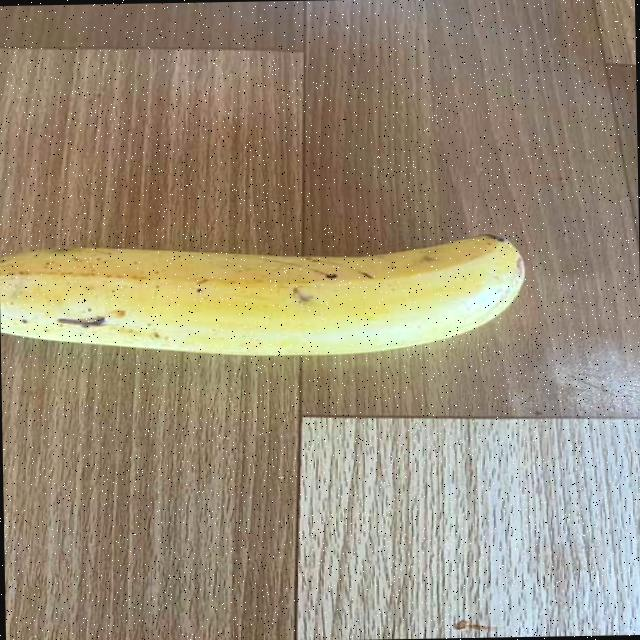Ripe: (0, 186, 563, 388)
